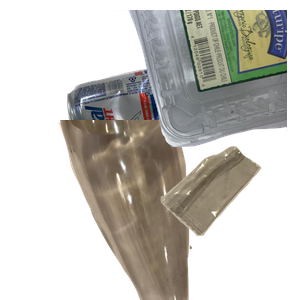glass: (56, 120, 241, 300)
metal: (65, 65, 231, 192)
plastic: (60, 10, 300, 149)
trash: (158, 144, 300, 300)
